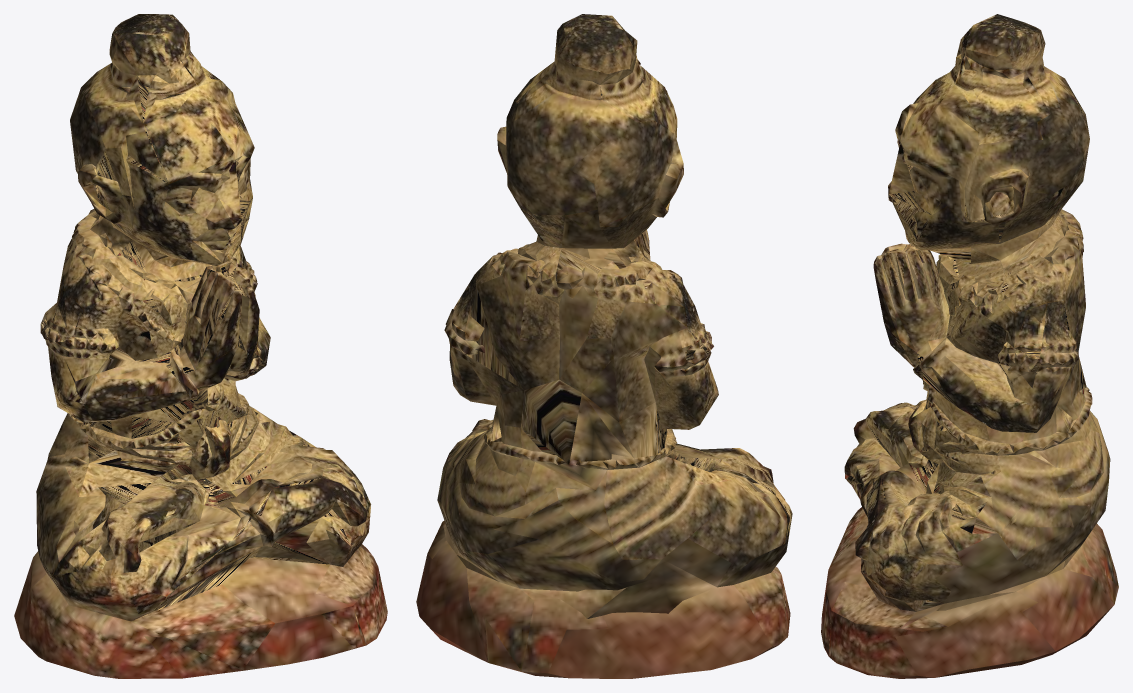
File: e4kuman.glb
3 renders of one model, left to right at view 1: azimuth 30°, elevation 25°; view 2: azimuth 150°, elevation 25°; view 3: azimuth 270°, elevation 25°, orthographic. The views are drawn at different scales.
Visible parts, largest first — view 1: e4kuman_near, e4kuman_far; view 2: e4kuman_near, e4kuman_far; view 3: e4kuman_near, e4kuman_far.
Boxes of the visible parts, x1,y1,x2,y2 form: e4kuman_near: (14,14,387,678); e4kuman_far: (40,33,372,670); e4kuman_near: (416,14,792,678); e4kuman_far: (447,62,783,618); e4kuman_near: (821,14,1118,678); e4kuman_far: (829,53,1091,656).
Size of the model in its own units: 0.0489 by 0.0848 by 0.0396.
Materials: 1 (1 with a texture image).
